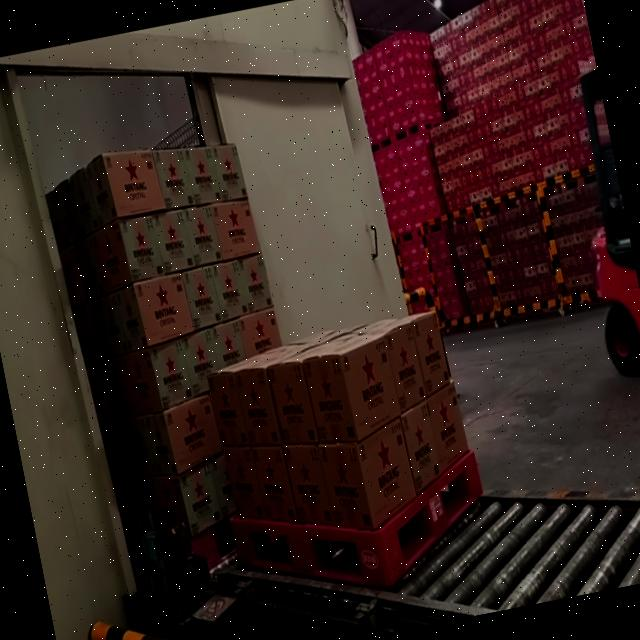pallet: (28, 123, 327, 598), (190, 293, 506, 621)
